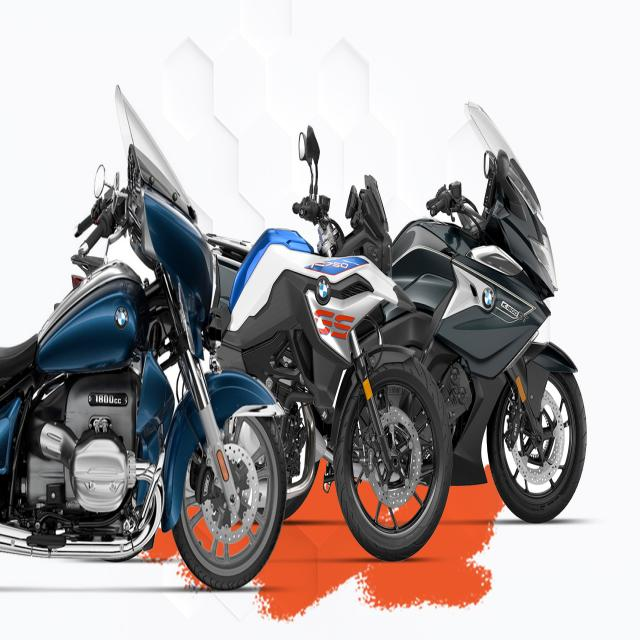Motorcycle: (0, 89, 286, 587), (381, 101, 588, 522)
